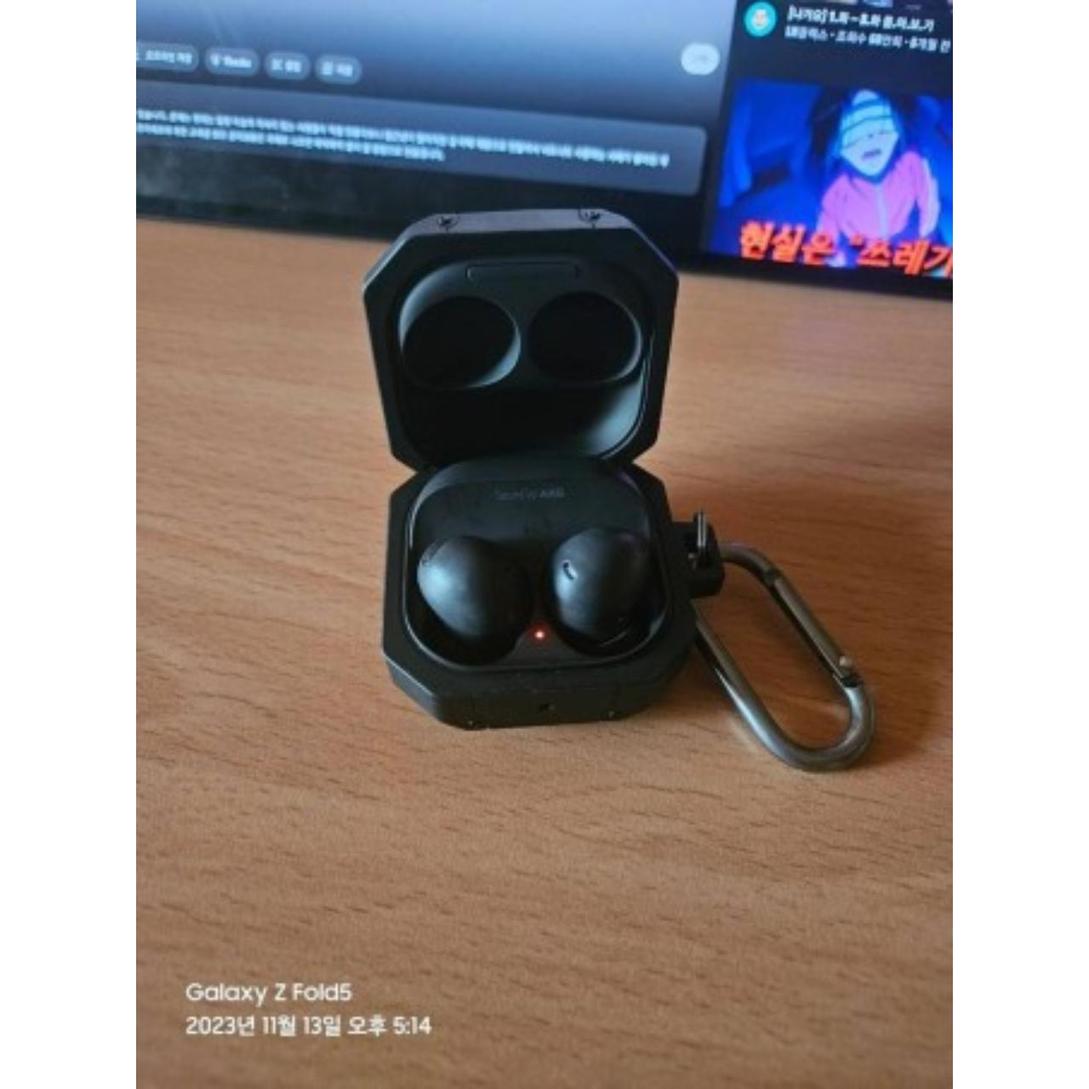Buds: (357, 202, 705, 737)
